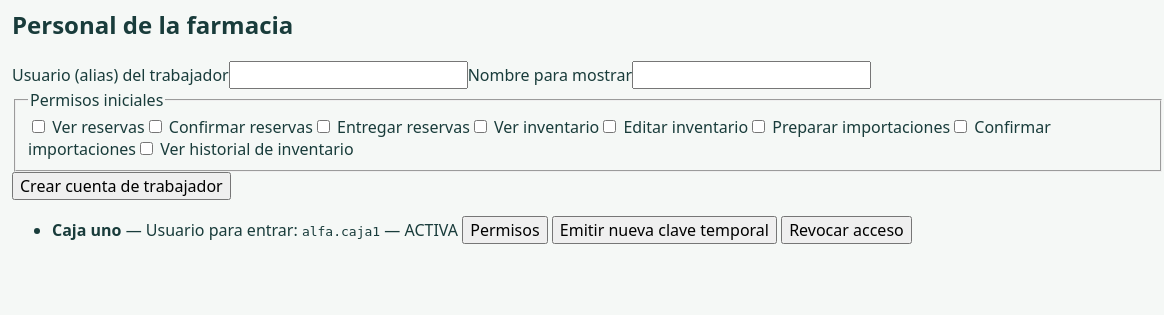
F01.1 US3: «Emitir nueva clave temporal» › explica el fallo sin detalles internos
The width and height of the screenshot is (1164, 315).
Click the button "Emitir nueva clave temporal".
click(664, 230)  # box top-left (552, 216), bottom-right (777, 244)
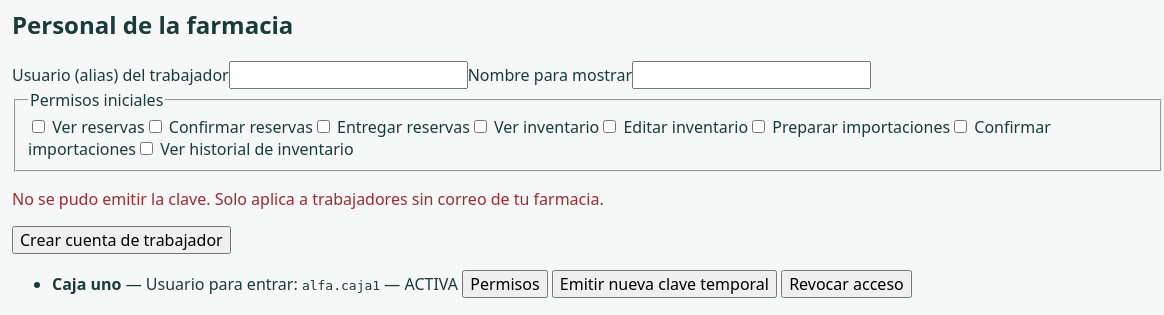
Check: the message shows "Solo aplica a trabajadores sin correo", box top-left (12, 188), bottom-right (604, 210)
